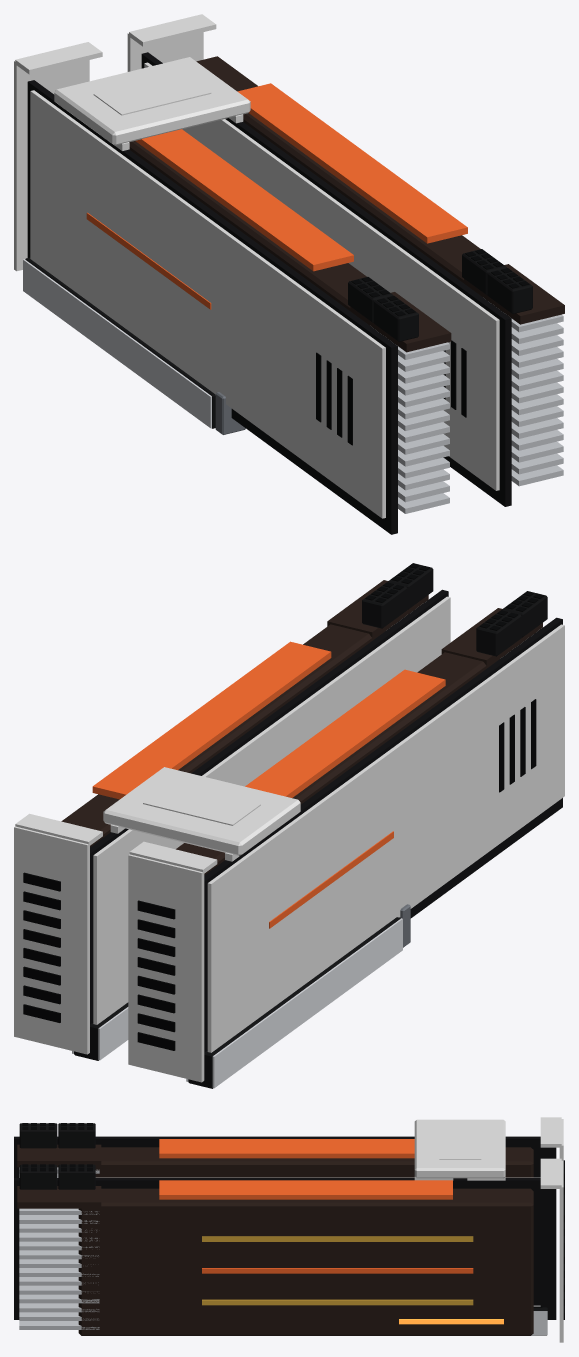
Rendered from hwm_gpu_mi300x.glb.
3 views of the same model, one above another, from view 1: azimuth 30°, elevation 25°; view 2: azimuth 150°, elevation 25°; view 3: azimuth 270°, elevation 25° (orthographic). The views are drawn at different scales.
Parts seen in each view (by area): view 1: Card_0, Card_1, Bridge, Slot_0; view 2: Card_0, Card_1, Bridge, Slot_0, Slot_1; view 3: Card_1, Card_0, Bridge, Slot_1.
Part boxes in pixels (box(x1,y1,x2,y2)): Card_0: box(14, 42, 451, 534); Card_1: box(127, 14, 564, 506); Bridge: box(54, 57, 250, 145); Slot_0: box(23, 257, 245, 434); Card_0: box(128, 591, 564, 1082); Card_1: box(14, 563, 450, 1054); Bridge: box(103, 767, 300, 856); Slot_0: box(186, 904, 410, 1088); Slot_1: box(72, 1002, 128, 1060); Card_1: box(14, 1158, 564, 1342); Card_0: box(14, 1117, 564, 1201); Bridge: box(414, 1119, 505, 1178); Slot_1: box(531, 1306, 547, 1335).
Bounding box in the file's own units: 0.093 × 0.1076 × 0.3149.
